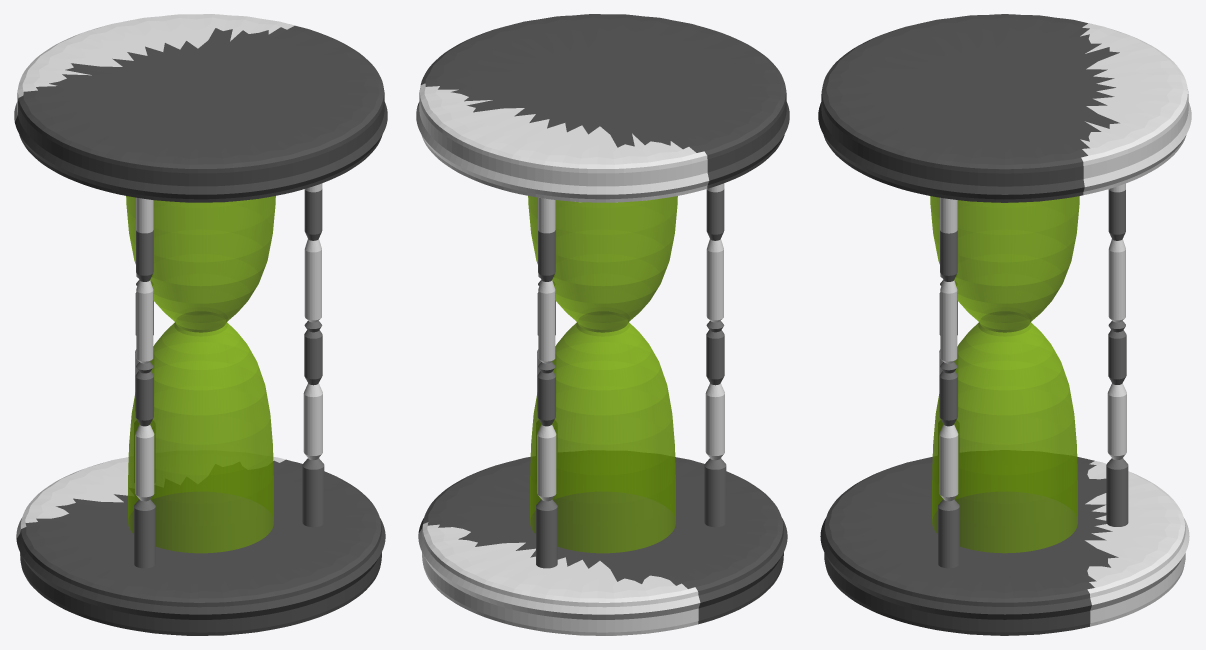
The model's file is sandclock3.fbx.
3 views of the same model, side by side, from view 1: azimuth 30°, elevation 25°; view 2: azimuth 150°, elevation 25°; view 3: azimuth 270°, elevation 25° (orthographic).
Visible parts, largest first — view 1: Bottom_Plate.001, Bottom_Plate, 円柱, Piller1.001, Piller1.002; view 2: Bottom_Plate.001, Bottom_Plate, 円柱, Piller1.003, Piller1.001; view 3: Bottom_Plate.001, Bottom_Plate, 円柱, Piller1.002, Piller1.003.
Boxes of the visible parts, left/top/right/bottom form: Bottom_Plate.001: left=14, top=14, right=387, bottom=202; Bottom_Plate: left=16, top=457, right=385, bottom=635; 円柱: left=126, top=196, right=275, bottom=553; Piller1.001: left=134, top=197, right=155, bottom=568; Piller1.002: left=302, top=183, right=324, bottom=527; Bottom_Plate.001: left=416, top=14, right=789, bottom=202; Bottom_Plate: left=418, top=457, right=787, bottom=635; 円柱: left=528, top=196, right=677, bottom=553; Piller1.003: left=536, top=197, right=557, bottom=568; Piller1.001: left=704, top=183, right=726, bottom=527; Bottom_Plate.001: left=818, top=14, right=1191, bottom=202; Bottom_Plate: left=820, top=457, right=1189, bottom=635; 円柱: left=930, top=196, right=1079, bottom=553; Piller1.002: left=938, top=197, right=959, bottom=568; Piller1.003: left=1106, top=183, right=1128, bottom=526.
Bounding box in the file's own units: 278 × 390 × 278.
